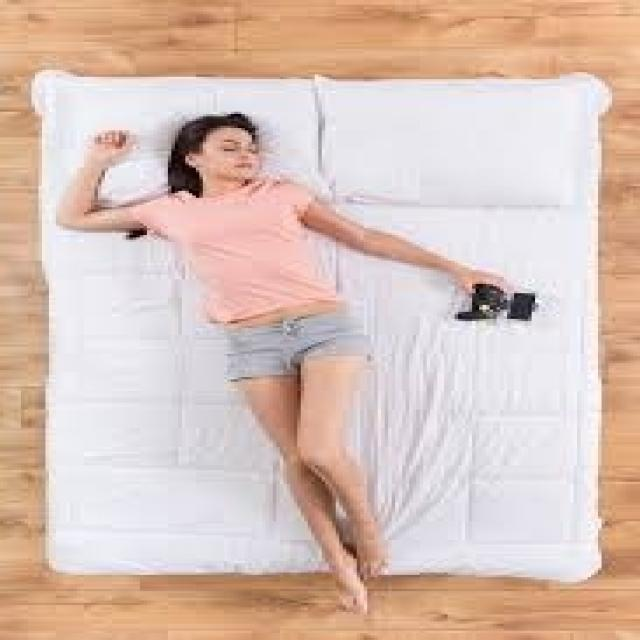fall detected: (79, 88, 551, 626)
